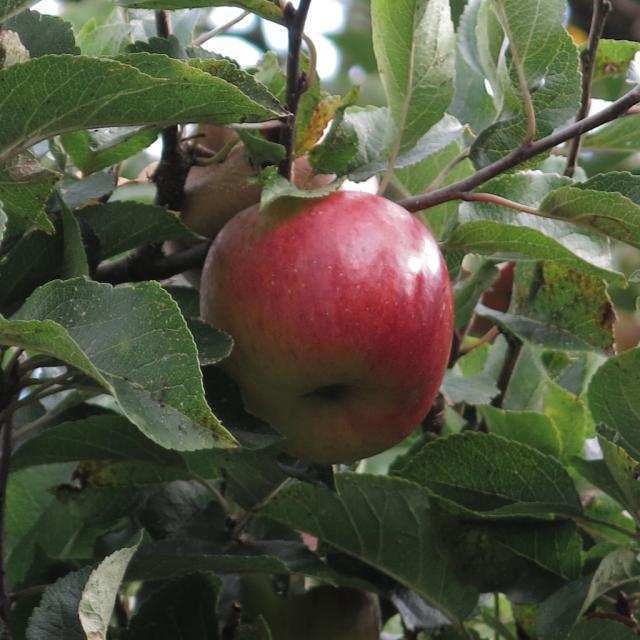Apple: (199, 188, 455, 464), (164, 108, 379, 234)
